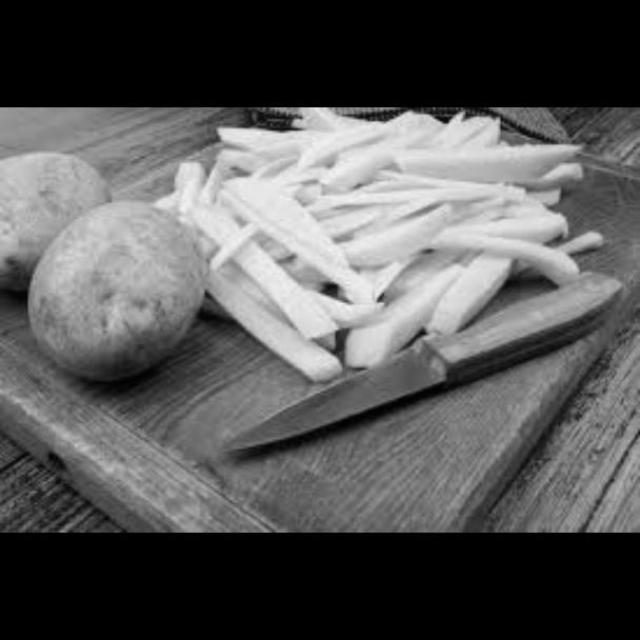potato: (171, 106, 608, 388), (23, 194, 205, 385), (0, 146, 112, 288)
